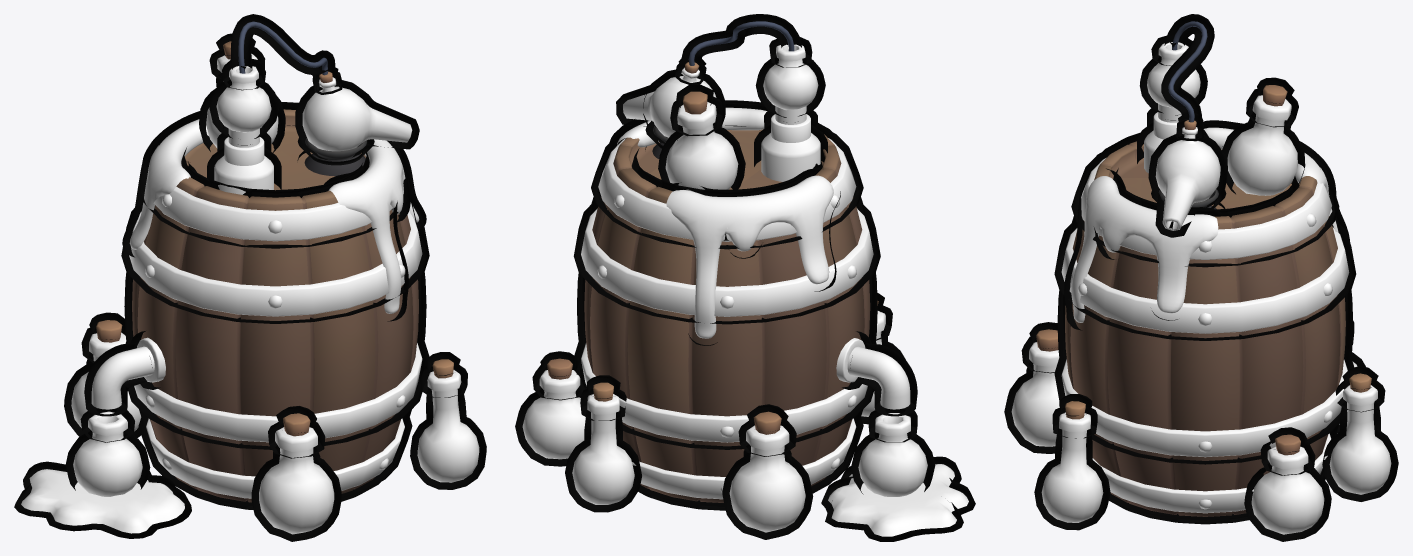
The model's file is gizmo_psn.fbx.
3 renders of one model, left to right at view 1: azimuth 30°, elevation 25°; view 2: azimuth 150°, elevation 25°; view 3: azimuth 270°, elevation 25°, orthographic. The views are drawn at different scales.
Visible parts, largest first — view 1: psnBarrel_Mesh, psnBarrel_backFace; view 2: psnBarrel_Mesh, psnBarrel_backFace; view 3: psnBarrel_Mesh, psnBarrel_backFace.
Part boxes in pixels (x1=…): psnBarrel_Mesh: x1=21, y1=21, x2=479, y2=534; psnBarrel_backFace: x1=14, y1=14, x2=486, y2=541; psnBarrel_Mesh: x1=522, y1=21, x2=968, y2=536; psnBarrel_backFace: x1=515, y1=14, x2=975, y2=541; psnBarrel_Mesh: x1=1011, y1=21, x2=1391, y2=534; psnBarrel_backFace: x1=1004, y1=14, x2=1398, y2=541.
Size of the model in its own units: 418 by 444 by 355.
